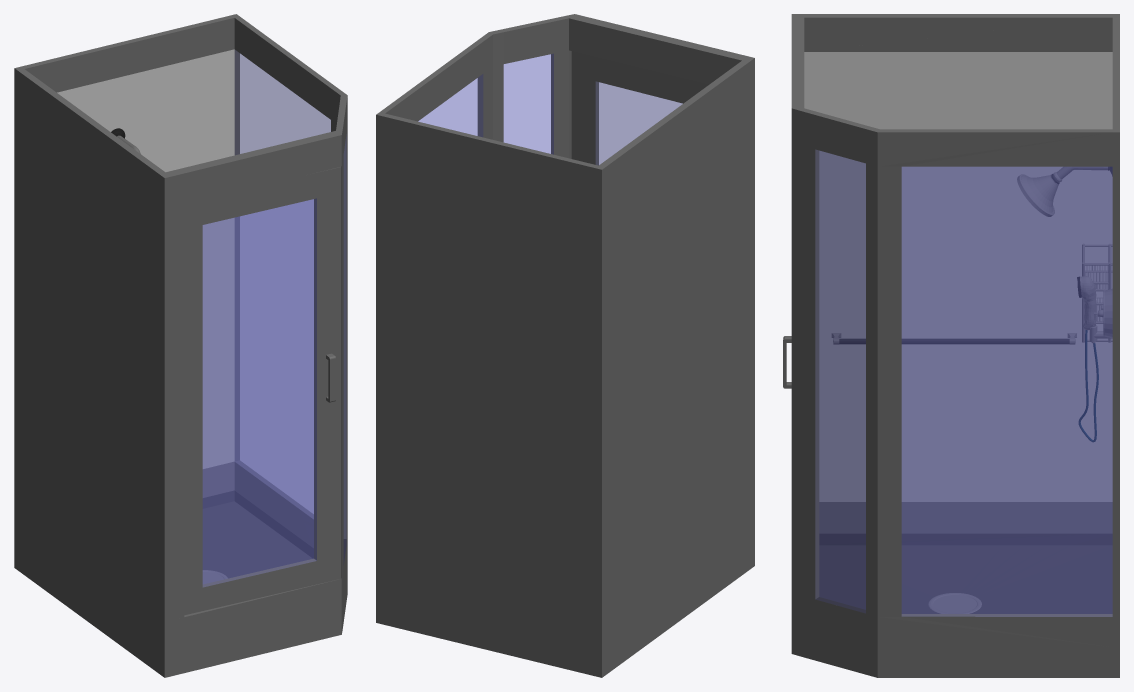
File: showerStall.obj
The picture shows the model from 3 angles, left to right: view 1: azimuth 30°, elevation 25°; view 2: azimuth 150°, elevation 25°; view 3: azimuth 270°, elevation 25°; orthographic projection. The views are drawn at different scales.
Visible parts, largest first — view 1: Shower_stall_ED_Cube.096, Shower_stall_door_ED_Cube.097, Tiles_Cube.002; view 2: Shower_stall_ED_Cube.096, Shower_stall_door_ED_Cube.097; view 3: Shower_stall_ED_Cube.096, Tiles_Cube.002, Shower_spray_head_ED_Tee_Joint.002, Shower_faucet_ED_Cylinder.028.
Boxes of the visible parts, box(x1,y1,x2,y2) form: Shower_stall_ED_Cube.096: box(14, 14, 347, 677); Shower_stall_door_ED_Cube.097: box(184, 167, 341, 615); Tiles_Cube.002: box(57, 49, 234, 468); Shower_stall_ED_Cube.096: box(376, 14, 754, 677); Shower_stall_door_ED_Cube.097: box(571, 51, 708, 165); Shower_stall_ED_Cube.096: box(791, 14, 1119, 677); Tiles_Cube.002: box(804, 52, 1112, 501); Shower_spray_head_ED_Tee_Joint.002: box(1077, 276, 1098, 442); Shower_faucet_ED_Cylinder.028: box(1094, 289, 1112, 337).
Bounding box in the file's own units: 93.06 × 200 × 112.
